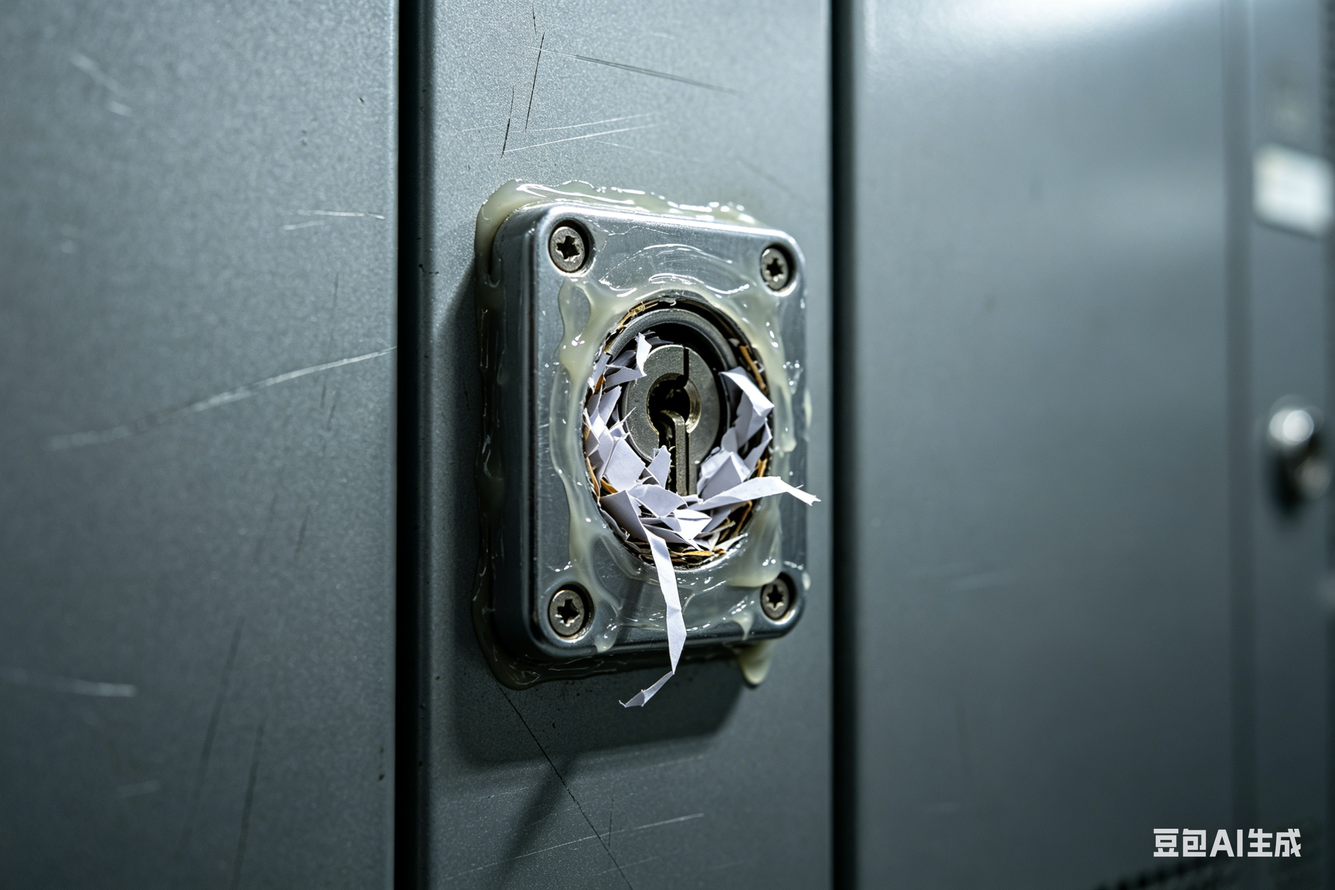BadLock: (584, 296, 791, 579)
